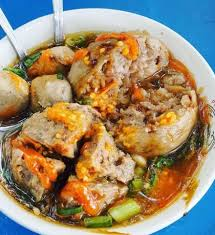bakso: (21, 40, 183, 211)
